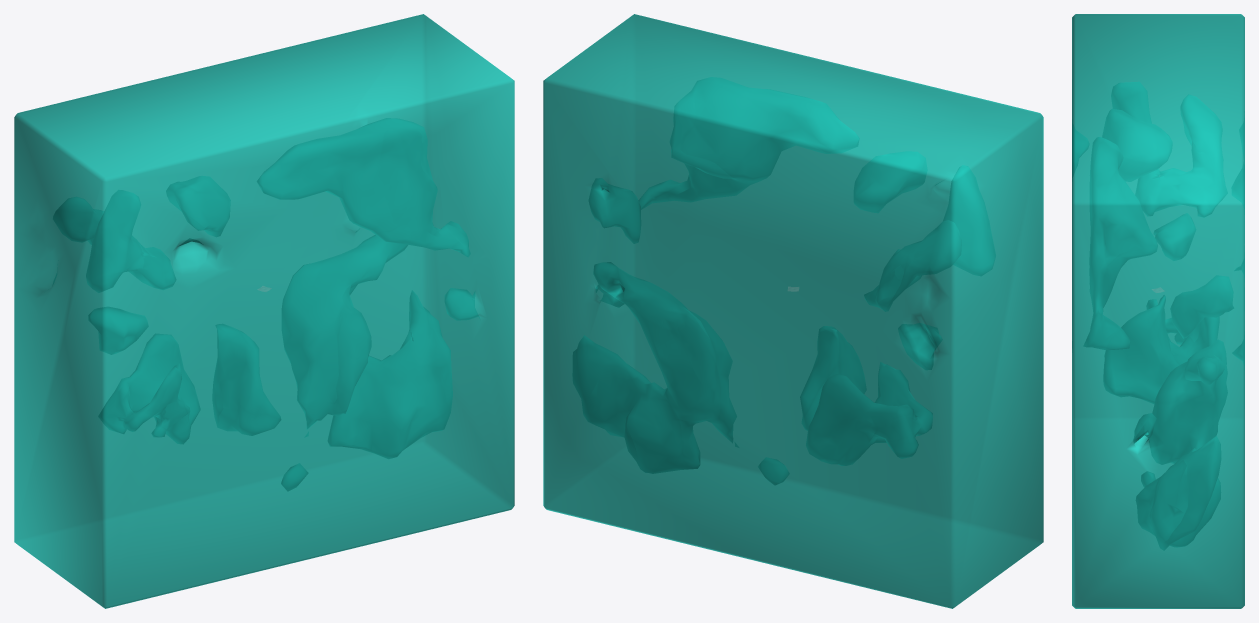
3 renders of one model, left to right at view 1: azimuth 30°, elevation 25°; view 2: azimuth 150°, elevation 25°; view 3: azimuth 270°, elevation 25°, orthographic. The views are drawn at different scales.
Parts seen in each view (by area): view 1: Liquid_Domain; view 2: Liquid_Domain; view 3: Liquid_Domain.
Boxes of the visible parts, box(x1,y1,x2,y2) form: Liquid_Domain: box(14, 14, 514, 608); Liquid_Domain: box(543, 14, 1043, 608); Liquid_Domain: box(1072, 14, 1244, 608).
Size of the model in its own units: 1948 by 1948 by 748.
